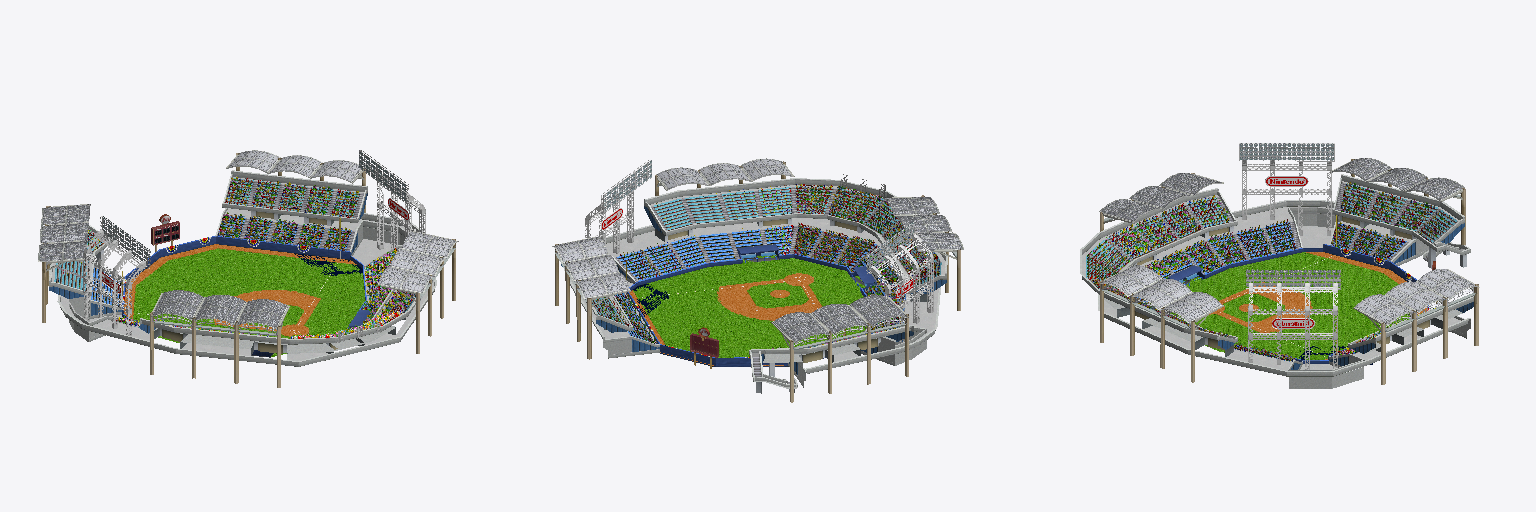
3 views of the same model, side by side, from view 1: azimuth 30°, elevation 25°; view 2: azimuth 150°, elevation 25°; view 3: azimuth 270°, elevation 25° (orthographic).
Parts seen in each view (by area): view 1: DrawCall_0055.002, DrawCall_0298.002, DrawCall_0056.002, DrawCall_0061.002, DrawCall_0287.002, DrawCall_0309.002, DrawCall_0274.002, DrawCall_0224.002, DrawCall_0192.002, DrawCall_0228.002, DrawCall_0378.002, DrawCall_0244.002 (+15 smaller); view 2: DrawCall_0055.002, DrawCall_0382.002, DrawCall_0056.002, DrawCall_0228.002, DrawCall_0309.002, DrawCall_0274.002, DrawCall_0061.002, DrawCall_0384.002, DrawCall_0287.002, DrawCall_0298.002, DrawCall_0383.002, DrawCall_0208.002 (+15 smaller); view 3: DrawCall_0055.002, DrawCall_0274.002, DrawCall_0287.002, DrawCall_0056.002, DrawCall_0298.002, DrawCall_0061.002, DrawCall_0228.002, DrawCall_0309.002, DrawCall_0368.002, DrawCall_0381.002, DrawCall_0367.002, DrawCall_0385.002 (+17 smaller).
Boxes of the visible parts, box(x1,y1,x2,y2) form: DrawCall_0055.002: box(133, 249, 365, 356); DrawCall_0298.002: box(151, 290, 287, 329); DrawCall_0056.002: box(139, 261, 353, 334); DrawCall_0061.002: box(124, 244, 356, 330); DrawCall_0287.002: box(378, 232, 456, 293); DrawCall_0309.002: box(38, 204, 90, 261); DrawCall_0274.002: box(227, 150, 363, 182); DrawCall_0224.002: box(149, 326, 394, 353); DrawCall_0192.002: box(89, 316, 399, 366); DrawCall_0228.002: box(140, 303, 415, 344); DrawCall_0378.002: box(228, 178, 359, 217); DrawCall_0244.002: box(122, 236, 339, 313); DrawCall_0055.002: box(635, 255, 866, 357); DrawCall_0382.002: box(654, 187, 791, 230); DrawCall_0056.002: box(652, 266, 858, 356); DrawCall_0228.002: box(644, 179, 946, 293); DrawCall_0309.002: box(773, 295, 908, 343); DrawCall_0274.002: box(552, 237, 629, 298); DrawCall_0061.002: box(629, 279, 821, 365); DrawCall_0384.002: box(671, 226, 793, 267); DrawCall_0287.002: box(656, 159, 792, 189); DrawCall_0298.002: box(884, 197, 963, 250); DrawCall_0383.002: box(617, 244, 682, 280); DrawCall_0208.002: box(651, 218, 829, 243); DrawCall_0055.002: box(1170, 252, 1409, 359); DrawCall_0274.002: box(1355, 269, 1479, 325); DrawCall_0287.002: box(1100, 265, 1221, 322); DrawCall_0056.002: box(1202, 255, 1393, 351); DrawCall_0298.002: box(1099, 173, 1221, 221); DrawCall_0061.002: box(1218, 252, 1426, 359); DrawCall_0228.002: box(1082, 189, 1237, 342); DrawCall_0309.002: box(1332, 158, 1464, 200); DrawCall_0368.002: box(1239, 143, 1340, 286); DrawCall_0381.002: box(1342, 183, 1456, 242); DrawCall_0367.002: box(1239, 143, 1340, 289); DrawCall_0385.002: box(1151, 222, 1295, 278).
Size of the model in its own units: 479 by 132 by 463.
76 materials, 75 textured.